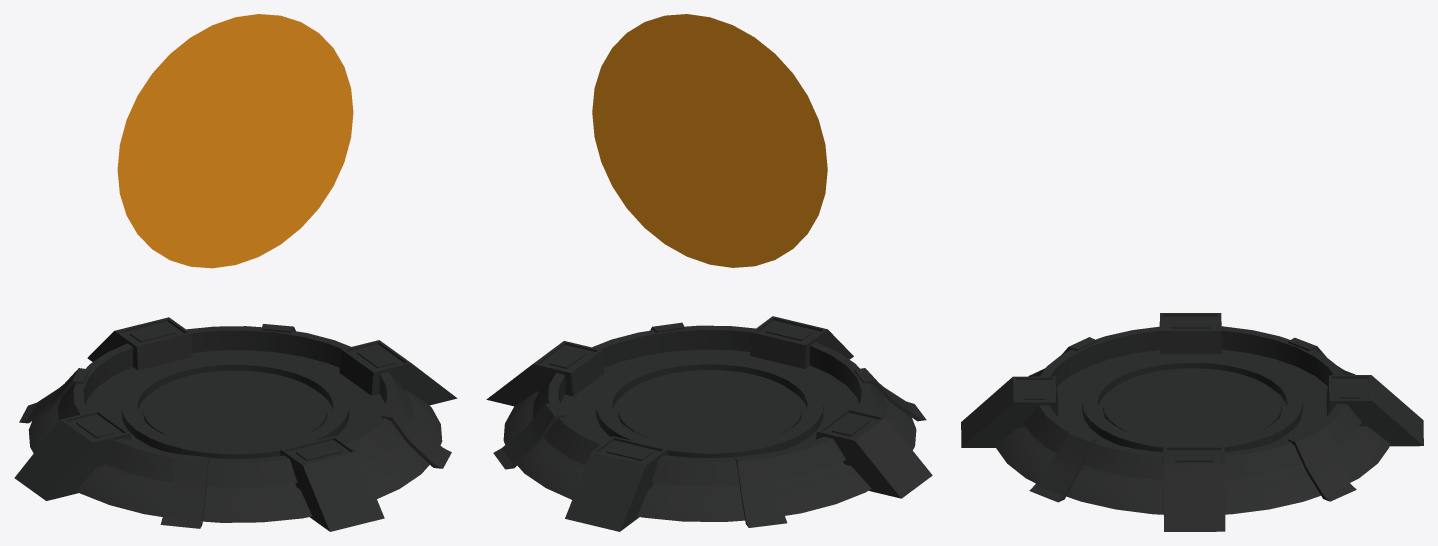
Rendered from ok-target.fbx.
The picture shows the model from 3 angles, left to right: view 1: azimuth 30°, elevation 25°; view 2: azimuth 150°, elevation 25°; view 3: azimuth 270°, elevation 25°; orthographic projection. The views are drawn at different scales.
Visible parts, largest first — view 1: Cube; view 2: Cube; view 3: Cube.
Part boxes in pixels (left/top/right/bottom): Cube: left=14, top=14, right=457, bottom=531; Cube: left=486, top=14, right=932, bottom=531; Cube: left=961, top=313, right=1423, bottom=531.
Bounding box in the file's own units: 772 × 750 × 772.
